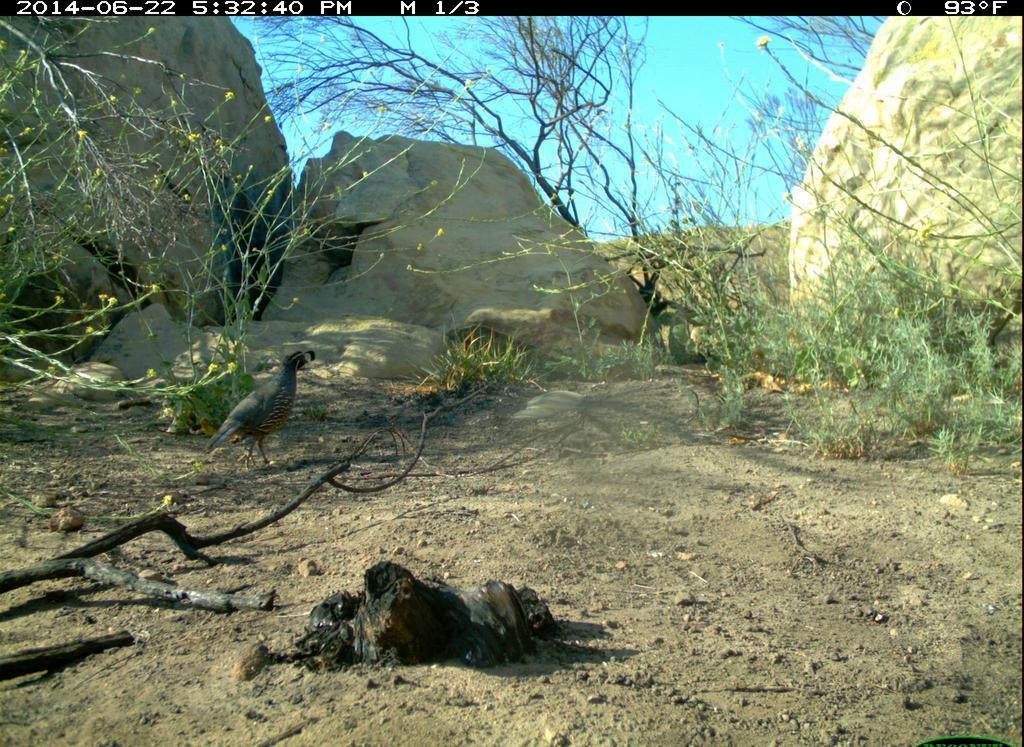bird: (200, 346, 319, 477)
